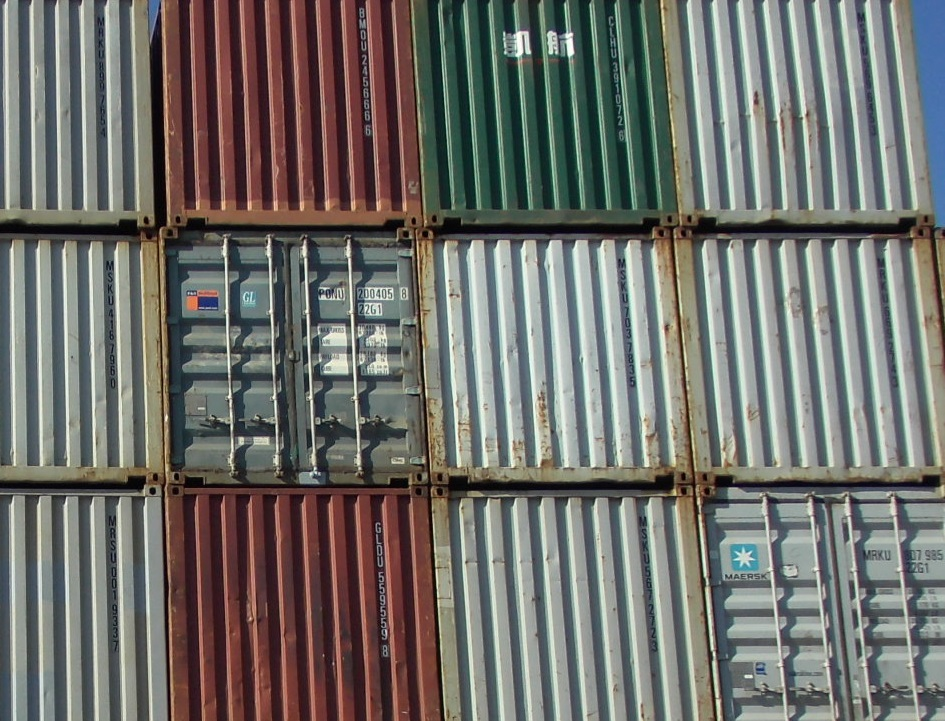container_door: (157, 228, 427, 489), (702, 484, 945, 721)
container_no_door: (420, 230, 695, 483), (695, 229, 945, 487), (164, 485, 434, 721), (429, 485, 699, 721), (659, 1, 929, 225), (157, 1, 421, 225), (421, 1, 684, 225), (1, 228, 159, 484), (1, 485, 169, 721), (2, 3, 147, 221)
